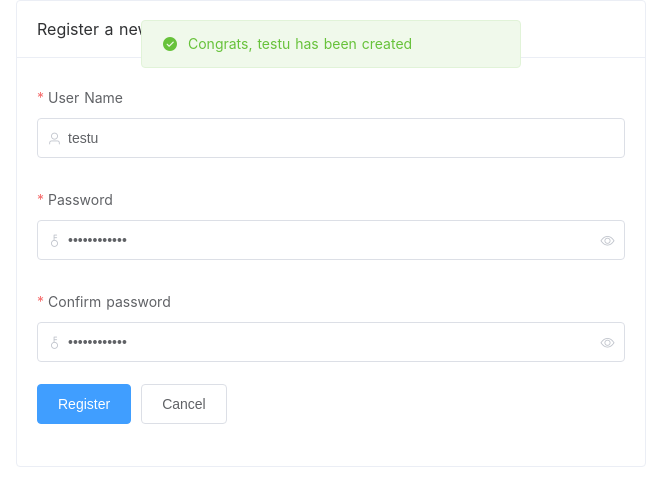
Test case: Auth register page › Auth Register Error › Register button works, validation errors, password should contain an uppercase letter
Click the button "Register". click: (84, 404)
box: [37,384,131,424]
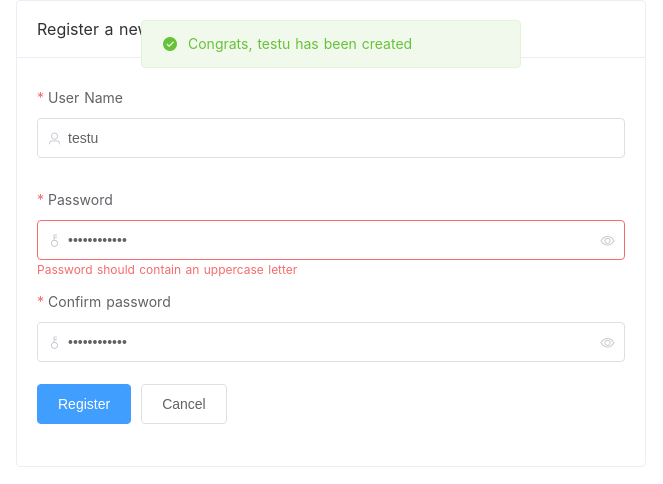
Expected: the text "Password should contain an uppercase letter" is shown, [37,260,297,276]
